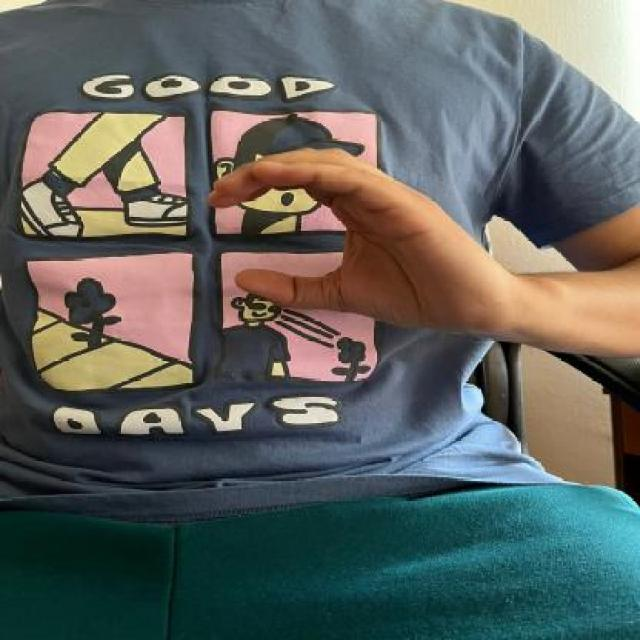C: (202, 142, 510, 342)
